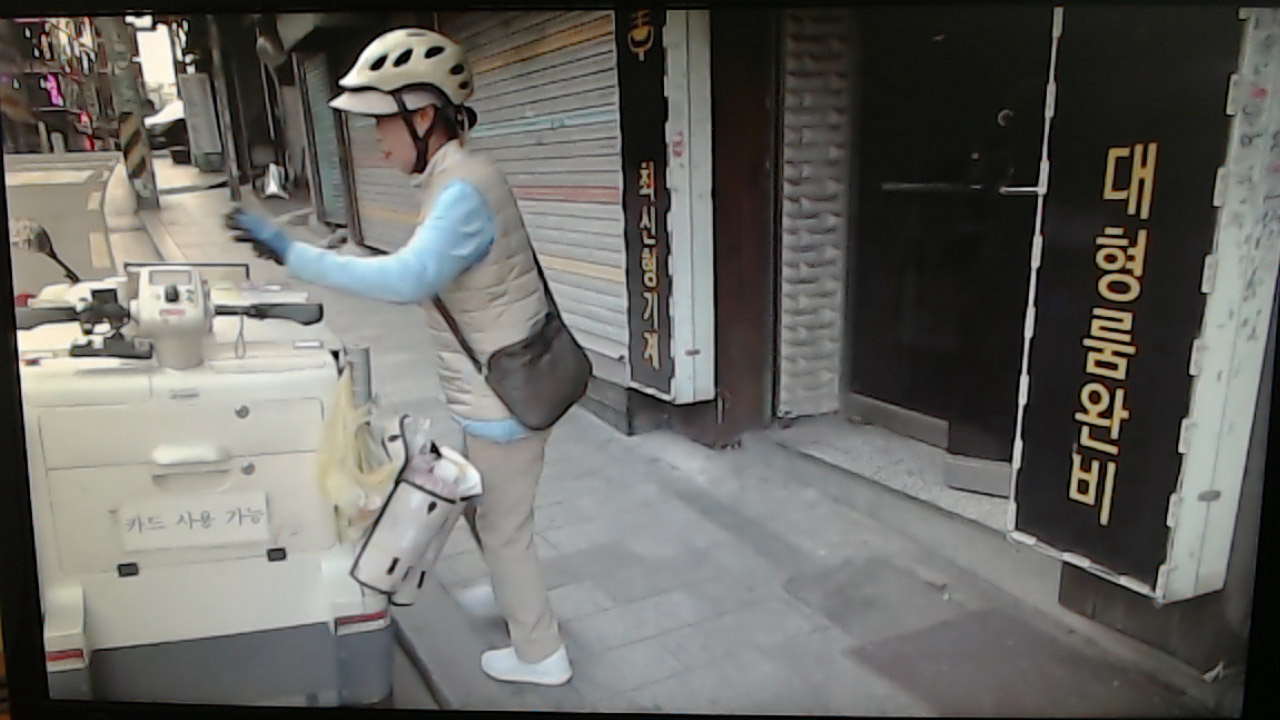Yakurut: (223, 21, 602, 698)
